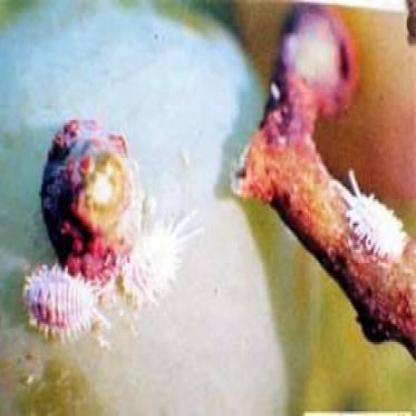mealy bug: (118, 212, 202, 310), (334, 170, 407, 266), (23, 270, 101, 344)
